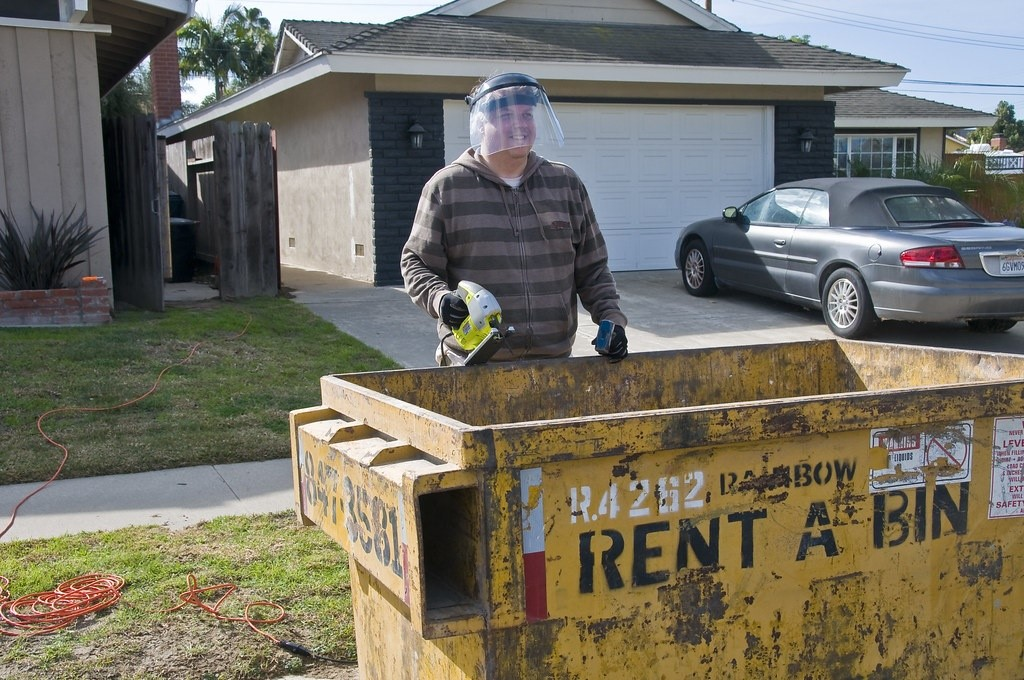face_no_mask: (471, 77, 546, 159)
